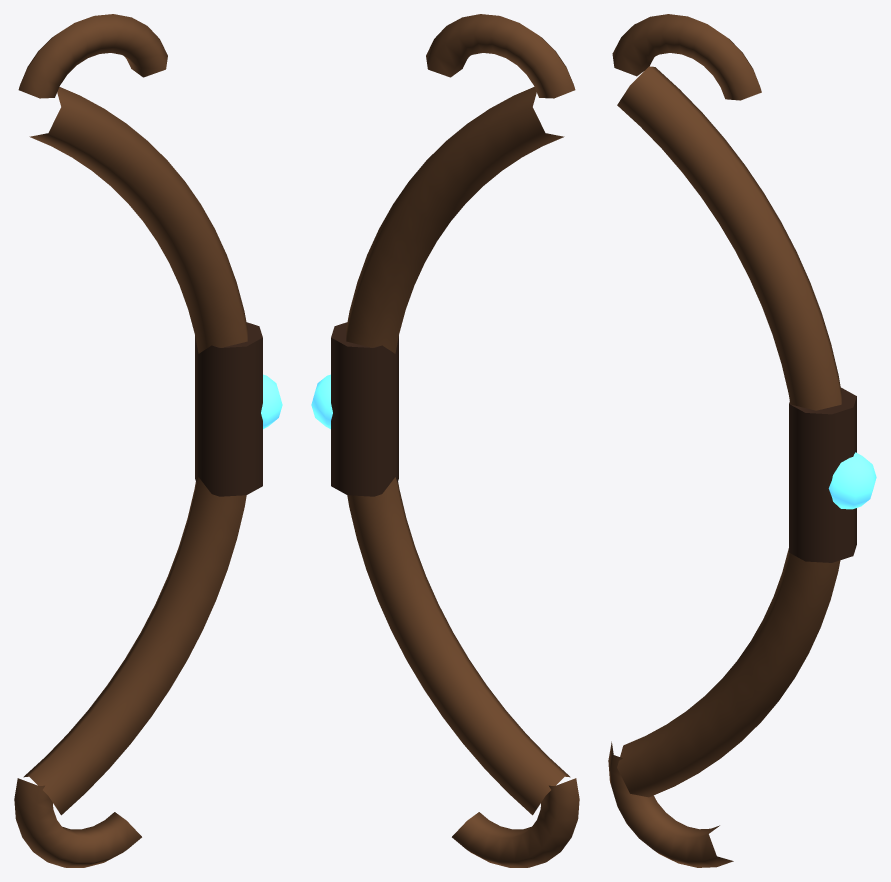
File: bow_f1_3f4df9dc.glb
The picture shows the model from 3 angles, left to right: view 1: azimuth 30°, elevation 25°; view 2: azimuth 150°, elevation 25°; view 3: azimuth 330°, elevation 25°; orthographic projection.
Visible parts, largest first — view 1: m2_ow80_, m0_ow80_, m1_gm160_; view 2: m2_ow80_, m0_ow80_, m1_gm160_; view 3: m2_ow80_, m0_ow80_, m1_gm160_.
Boxes of the visible parts, left/top/right/bottom form: m2_ow80_: left=14, top=14, right=247, bottom=867; m0_ow80_: left=195, top=322, right=262, bottom=496; m1_gm160_: left=261, top=374, right=282, bottom=429; m2_ow80_: left=346, top=14, right=579, bottom=867; m0_ow80_: left=331, top=322, right=398, bottom=496; m1_gm160_: left=311, top=374, right=332, bottom=429; m2_ow80_: left=608, top=14, right=841, bottom=867; m0_ow80_: left=789, top=387, right=856, bottom=562; m1_gm160_: left=828, top=452, right=876, bottom=509.
Size of the model in its own units: 0.523 by 1.6 by 0.12.
